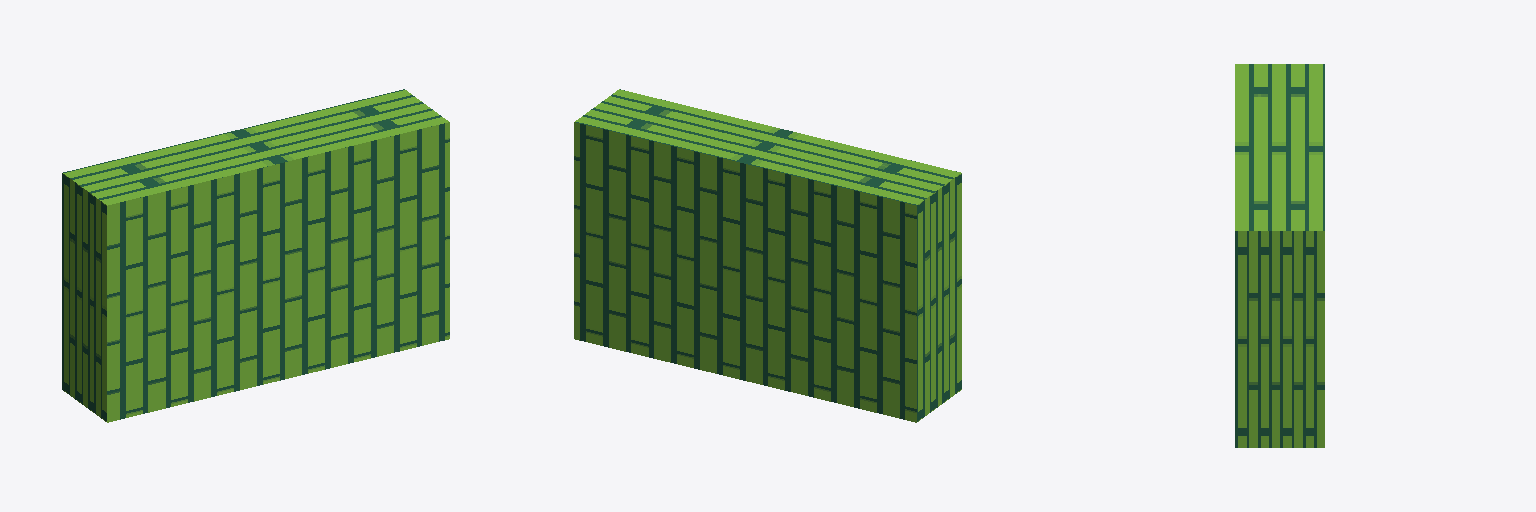
3 renders of one model, left to right at view 1: azimuth 30°, elevation 25°; view 2: azimuth 150°, elevation 25°; view 3: azimuth 270°, elevation 25°, orthographic.
Parts seen in each view (by area): view 1: Cube_Cube.001; view 2: Cube_Cube.001; view 3: Cube_Cube.001.
Part boxes in pixels (bbox=[...]): Cube_Cube.001: bbox=[62, 89, 449, 422]; Cube_Cube.001: bbox=[574, 89, 961, 422]; Cube_Cube.001: bbox=[1235, 64, 1324, 447].
Bounding box in the file's own units: 2 × 1.21 × 0.4545.
1 materials, 1 textured.